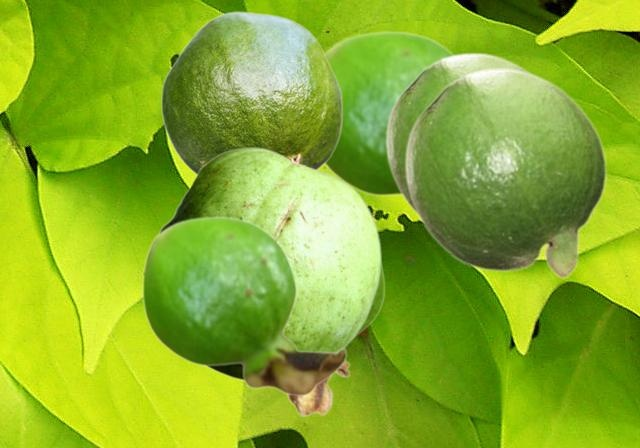guava: (158, 147, 380, 381), (403, 66, 606, 279), (141, 215, 347, 396), (160, 11, 342, 174), (384, 51, 530, 214), (325, 30, 453, 198), (286, 258, 384, 416)
